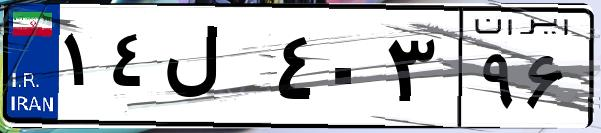0: (330, 28, 385, 110)
1: (57, 26, 110, 100)
3: (385, 28, 445, 110)
4: (270, 28, 330, 110), (110, 28, 158, 98)
6: (525, 38, 570, 115)
9: (475, 38, 525, 113)
ل: (158, 20, 270, 120)
